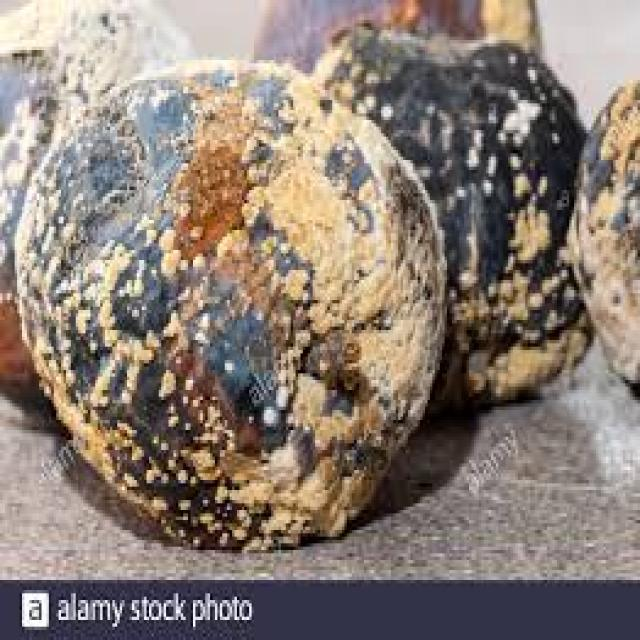organic waste: (12, 53, 440, 550), (308, 23, 591, 417), (0, 0, 191, 397), (249, 0, 540, 87), (564, 77, 638, 403)
